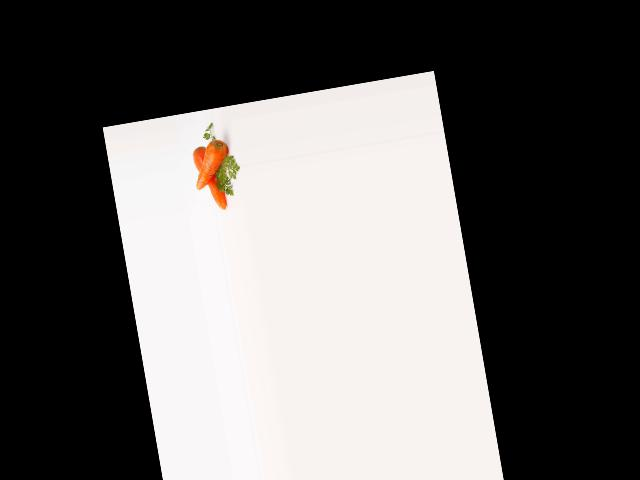carrot: (190, 142, 228, 214)
